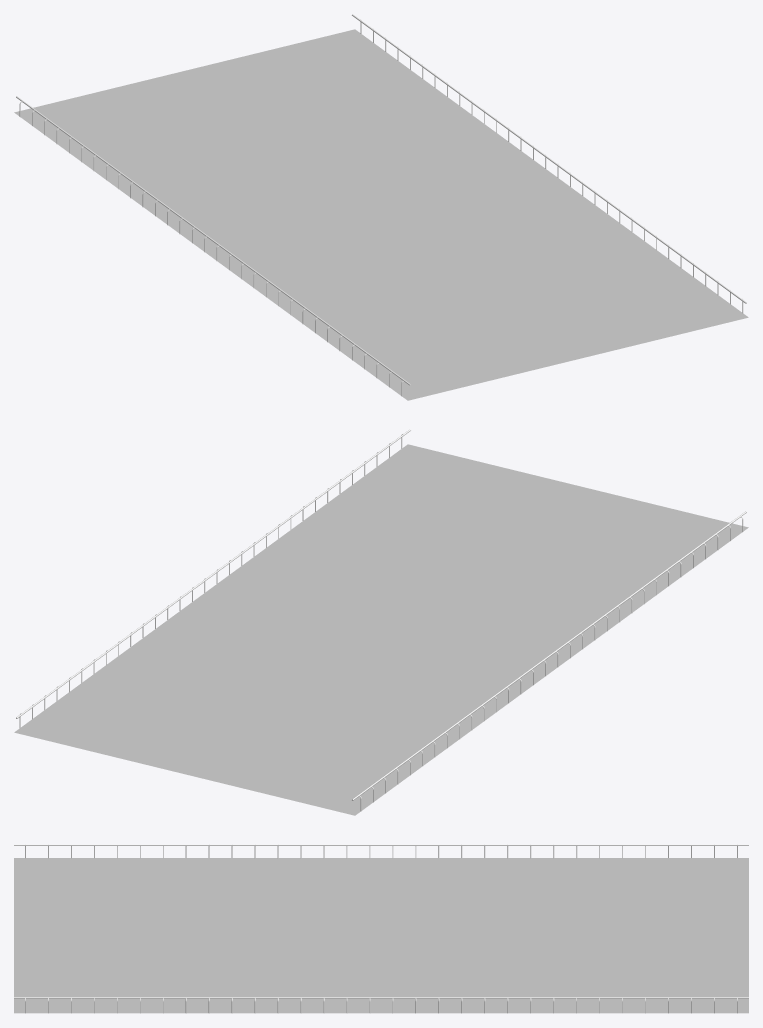
Rendered from Straight_Long.fbx.
3 views of the same model, one above another, from view 1: azimuth 30°, elevation 25°; view 2: azimuth 150°, elevation 25°; view 3: azimuth 270°, elevation 25° (orthographic). The views are drawn at different scales.
Visible parts, largest first — view 1: Grass, Side_Fence_A, Side_Fence_B; view 2: Grass, Side_Fence_A, Side_Fence_B; view 3: Grass, Side_Fence_B, Side_Fence_A.
Boxes of the visible parts, bbox=[...] form: Grass: bbox=[14, 29, 748, 400]; Side_Fence_A: bbox=[16, 96, 410, 396]; Side_Fence_B: bbox=[352, 14, 746, 313]; Grass: bbox=[14, 444, 748, 815]; Side_Fence_A: bbox=[352, 511, 746, 811]; Side_Fence_B: bbox=[16, 429, 410, 728]; Grass: bbox=[14, 858, 748, 1013]; Side_Fence_B: bbox=[14, 997, 748, 1013]; Side_Fence_A: bbox=[14, 844, 748, 858].
Bounding box in the file's own units: 25.07 × 1.1 × 50.
